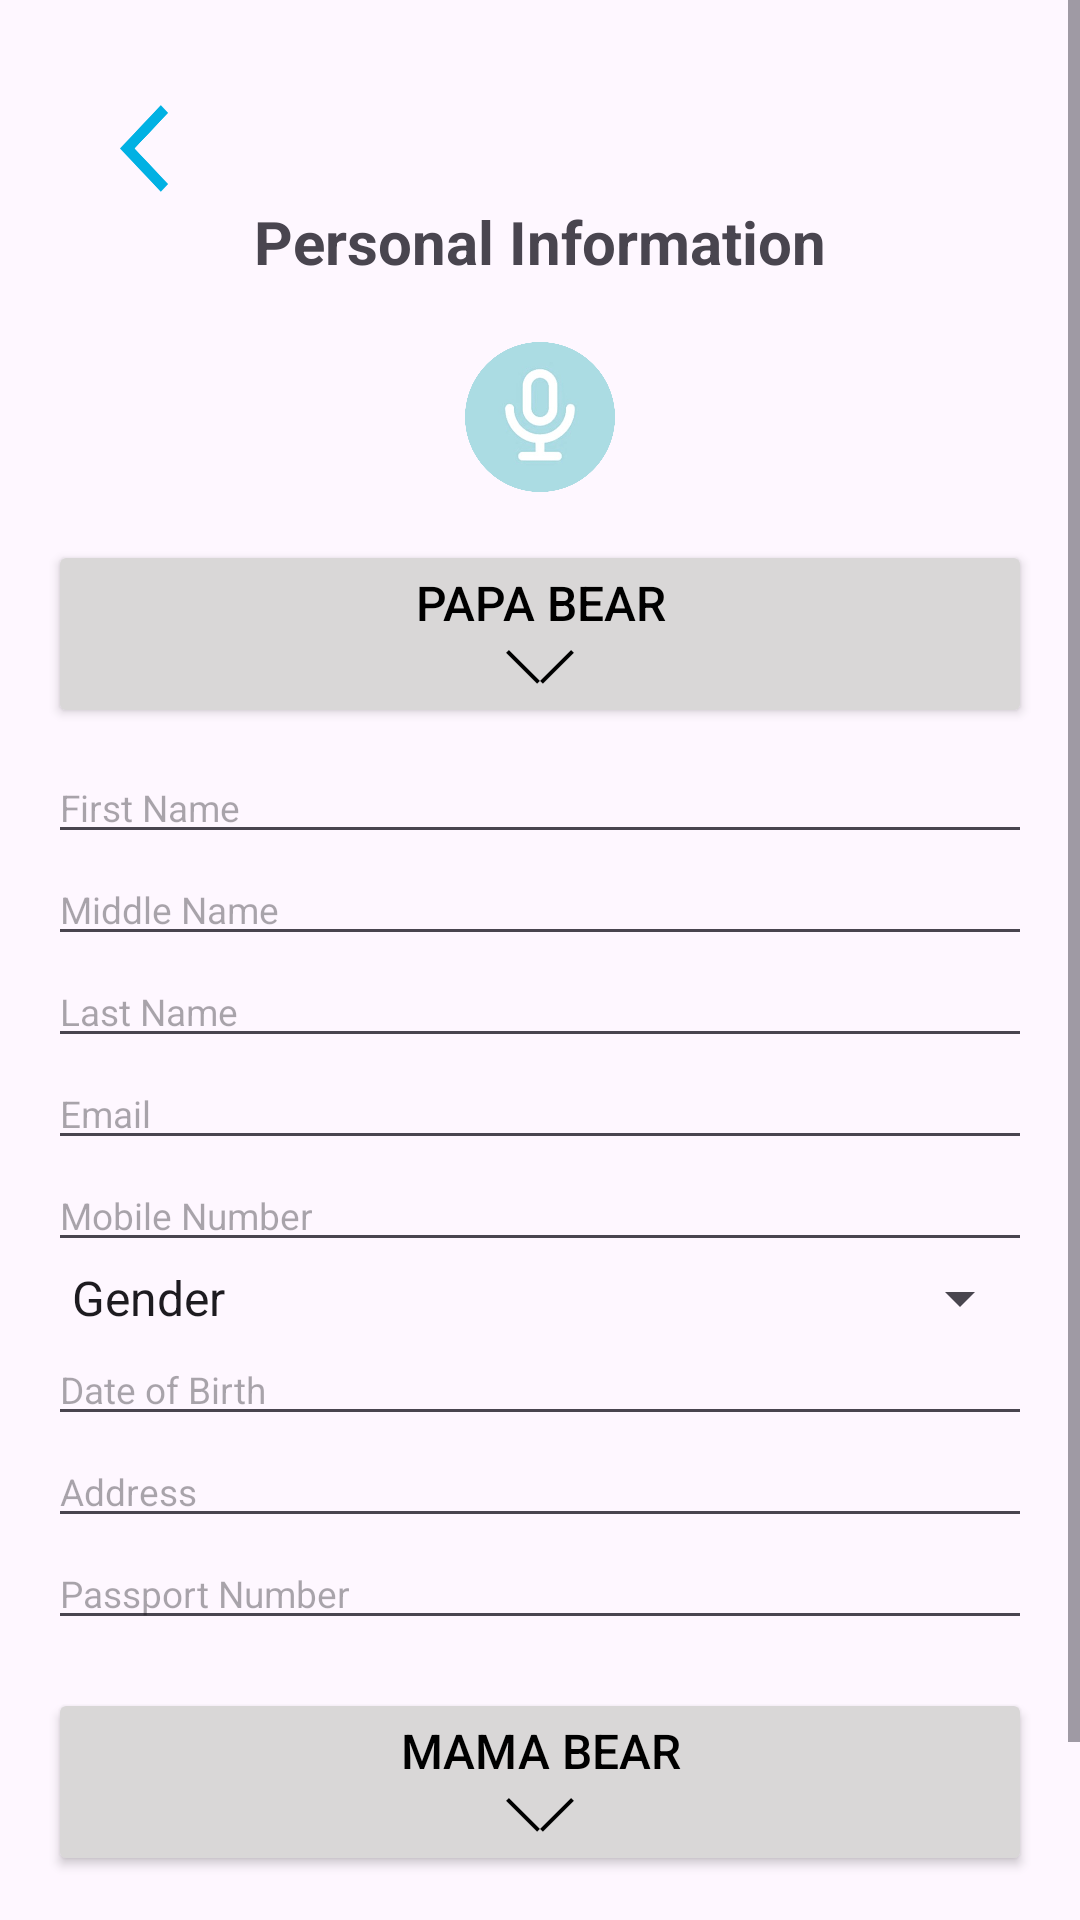

Icon click points for this 1080×1920 phone screenshot, format (x=x, y=y):
back arrow: (x=144, y=148)
voice assistant: (x=540, y=417)
